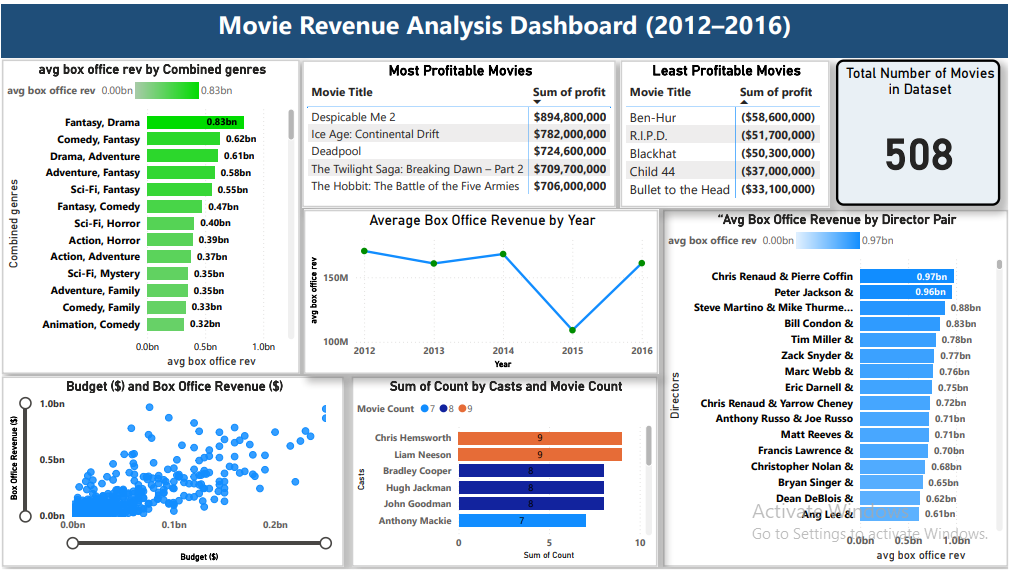

This screenshot's page, from the dashboard's own definition file:
{"tool":"powerbi","page":{"name":"Page 1","canvas":[1280,720],"ordinal":0},"visuals":[{"type":"barChart","fields":{"Y":["Movie Data.avg box office rev"],"Category":["Movie Data.combined genres"]},"box":[0,71.7,379.4,400.3],"z":0},{"type":"barChart","title":"“Avg Box Office Revenue by Director Pair","fields":{"Y":["Movie Data.avg box office rev"],"Category":["Movie Data.Directors"]},"box":[841,262.9,439.2,454.1],"z":1000},{"type":"scatterChart","fields":{"X":["Movie Data.Budget ($)"],"Y":["Movie Data.Box Office Revenue ($)"]},"box":[0,475,434.7,242],"z":2000},{"type":"barChart","fields":{"Category":["CountCombined Casts.Value"],"Series":["CountCombined Casts.Count"],"Y":["CountCombined Casts.Count"]},"box":[445.1,475,388.4,242],"z":3000},{"type":"pivotTable","title":"Most Profitable Movies","fields":{"Rows":["Movie Data.Movie Title"],"Values":["Movie Data.profit"]},"box":[382.4,73.2,398.8,186.7],"z":4000},{"type":"pivotTable","title":"Least Profitable Movies","fields":{"Rows":["Movie Data.Movie Title"],"Values":["Movie Data.profit"]},"box":[787.2,73.2,265.9,186.7],"z":5000},{"type":"lineChart","title":"Average Box Office Revenue by Year","fields":{"Category":["Movie Data.Release Date.Variation.Date Hierarchy.Year"],"Y":["Movie Data.avg box office rev"]},"box":[383.9,262.9,451.1,209.1],"z":6000},{"type":"card","title":"Total Number of Movies in Dataset","fields":{"Values":["Movie Data.Movie Title"]},"box":[1060.6,71.7,209.1,186.7],"z":7000},{"type":"textbox","box":[0,0,1280.2,70.2],"z":8000}]}

Visuals, with their boxes in screenshot pixels (x1, y1, x2, y2), scaled from the page's 1280x720 canvas onto the 1012x573 screenshot:
barChart - Movie Data.avg box office rev x Movie Data.combined genres: [0, 57, 300, 376]
"“Avg Box Office Revenue by Director Pair" barChart: [665, 209, 1011, 571]
scatterChart - Movie Data.Budget ($) x Movie Data.Box Office Revenue ($): [0, 378, 344, 571]
barChart - CountCombined Casts.Value x CountCombined Casts.Count: [352, 378, 659, 571]
"Most Profitable Movies" pivotTable: [302, 58, 618, 207]
"Least Profitable Movies" pivotTable: [622, 58, 833, 207]
"Average Box Office Revenue by Year" lineChart: [304, 209, 660, 376]
"Total Number of Movies in Dataset" card: [839, 57, 1004, 206]
textbox: [0, 0, 1011, 56]
